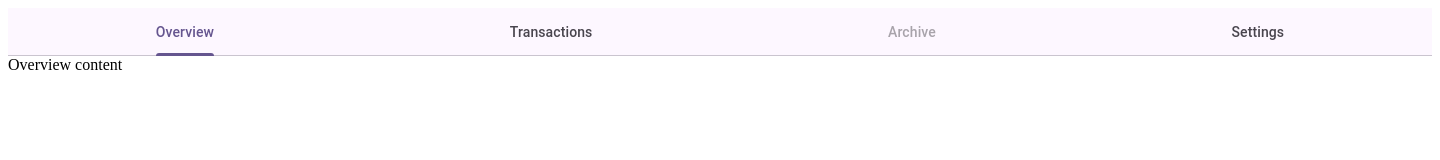
Test: Tabs › selects on click and shows only that panel
Click the tab "Transactions" at (551, 32), box [362,8,740,56]
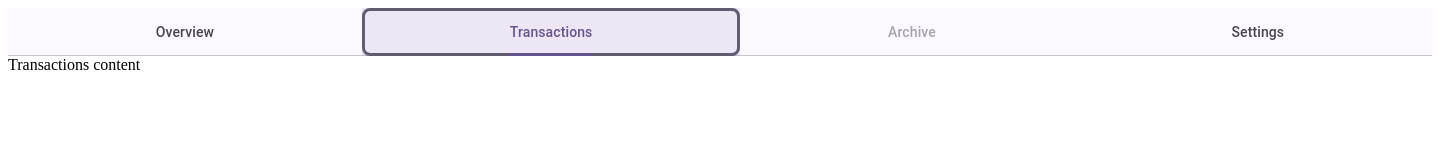
expect the panel reads "Transactions content": met, box [8,56,140,73]
